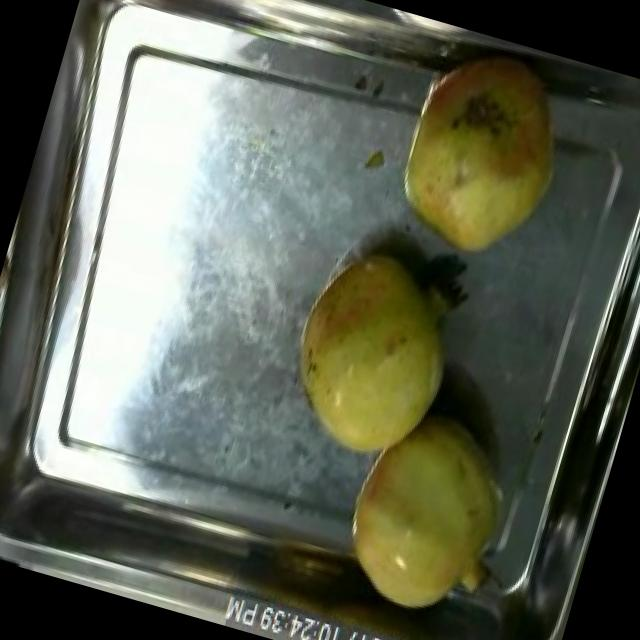fruit: (360, 27, 594, 288), (260, 230, 480, 486), (320, 393, 534, 634)
